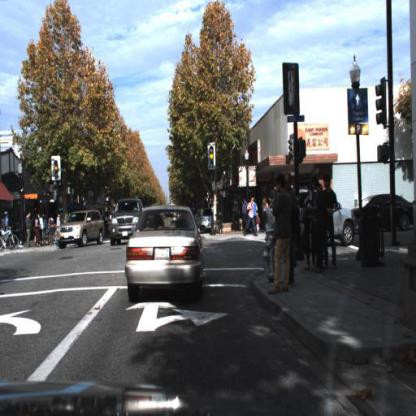biker: (1, 213, 21, 255)
car: (127, 204, 207, 299), (262, 188, 358, 252), (56, 209, 105, 249), (110, 198, 146, 248)
pedestrian: (266, 173, 291, 295), (323, 177, 344, 272), (322, 174, 340, 271), (310, 177, 324, 276), (303, 186, 314, 275), (245, 194, 258, 238), (246, 199, 258, 243), (26, 209, 34, 250), (35, 212, 42, 247), (255, 213, 263, 237), (242, 196, 250, 219), (253, 198, 258, 229)
trafficLight-Yellow: (52, 156, 62, 182), (208, 144, 216, 172)
